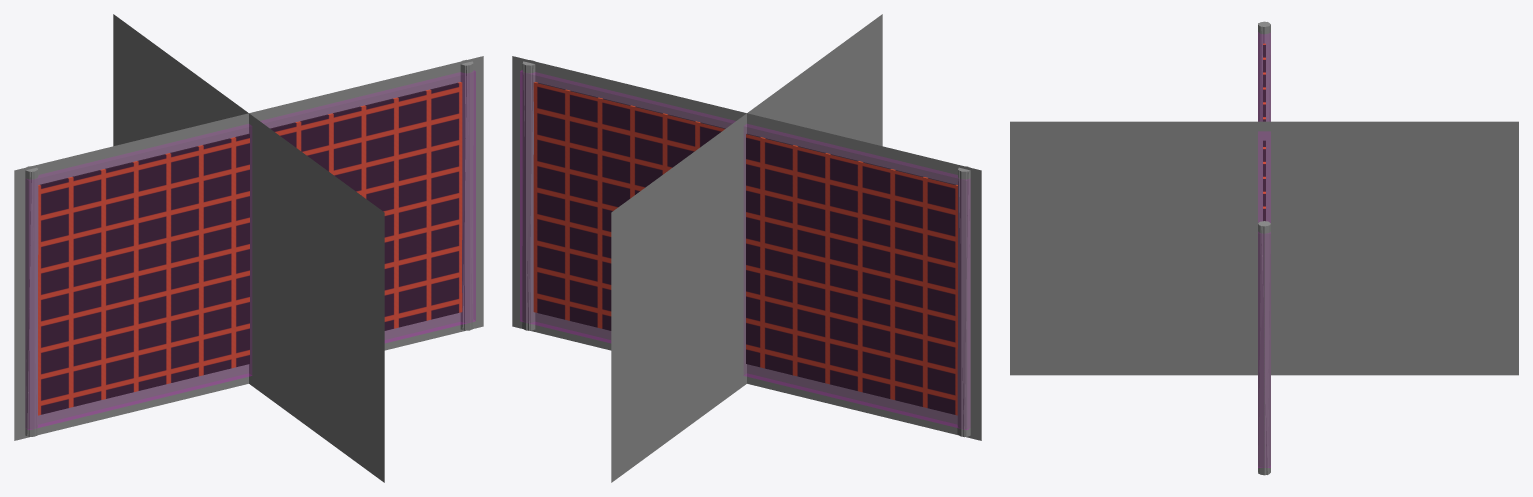
File: safetynet_orange_tall_3m.dae
3 renders of one model, left to right at view 1: azimuth 30°, elevation 25°; view 2: azimuth 150°, elevation 25°; view 3: azimuth 270°, elevation 25°, orthographic. The views are drawn at different scales.
Visible parts, largest first — view 1: safetynet_orange_tall_3m_a800, Colmesh_panel-1, safetynet_orange_tall_3m_a50, safetynet_orange_tall_3m_a200; view 2: safetynet_orange_tall_3m_a800, Colmesh_panel-1, safetynet_orange_tall_3m_a50, safetynet_orange_tall_3m_a200; view 3: safetynet_orange_tall_3m_a50, Colmesh_panel-1, safetynet_orange_tall_3m_a800, safetynet_orange_tall_3m_a200.
Boxes of the visible parts, x1,y1,x2,y2 form: safetynet_orange_tall_3m_a800: [25, 60, 473, 436]; Colmesh_panel-1: [26, 70, 475, 429]; safetynet_orange_tall_3m_a50: [14, 14, 483, 482]; safetynet_orange_tall_3m_a200: [26, 59, 473, 436]; safetynet_orange_tall_3m_a800: [522, 60, 970, 436]; Colmesh_panel-1: [520, 70, 969, 429]; safetynet_orange_tall_3m_a50: [512, 14, 981, 482]; safetynet_orange_tall_3m_a200: [522, 61, 970, 437]; safetynet_orange_tall_3m_a50: [1010, 121, 1518, 375]; Colmesh_panel-1: [1258, 33, 1270, 467]; safetynet_orange_tall_3m_a800: [1258, 21, 1270, 475]; safetynet_orange_tall_3m_a200: [1258, 23, 1270, 474].
Size of the model in its own units: 3.15 by 3.15 by 1.73.
Materials: 3 (1 with a texture image).
